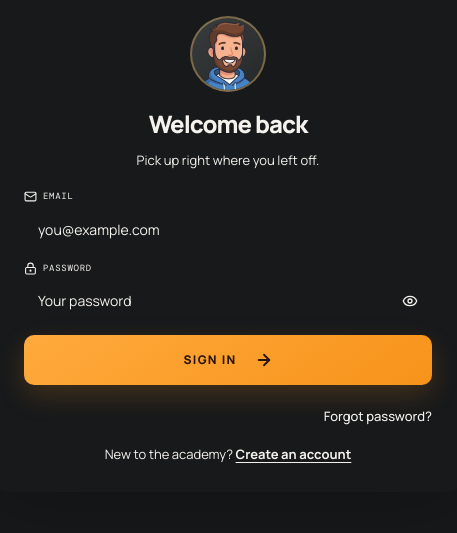
it: login › shows a friendly message for invalid_credentials (HTTP 400)
Type "learner@example.com" into the field with placeholder "you@example.com". click: (228, 229)
box: [24,209,432,250]
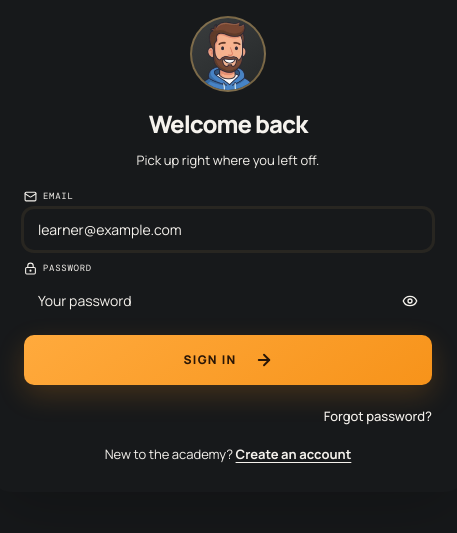
Type "wrong-pass" into the password field with placeholder "Your password". click: (228, 301)
box: [24,280,432,321]
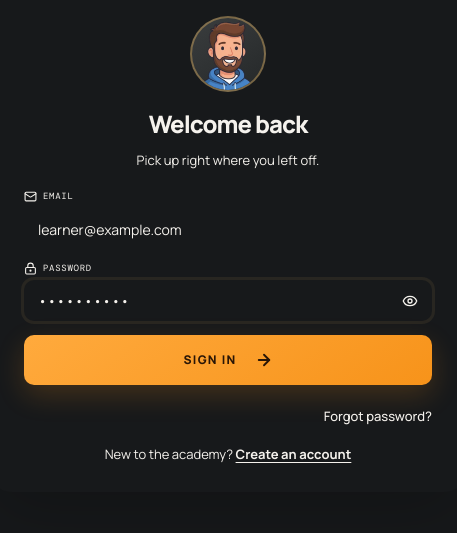
Click the button "Sign in". click: click(228, 360)
box: [24,335,432,385]
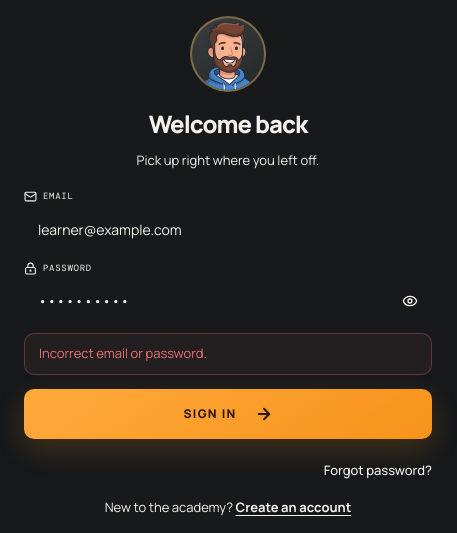
Result: the text "Incorrect email or password." is shown at [24,333,432,375]
